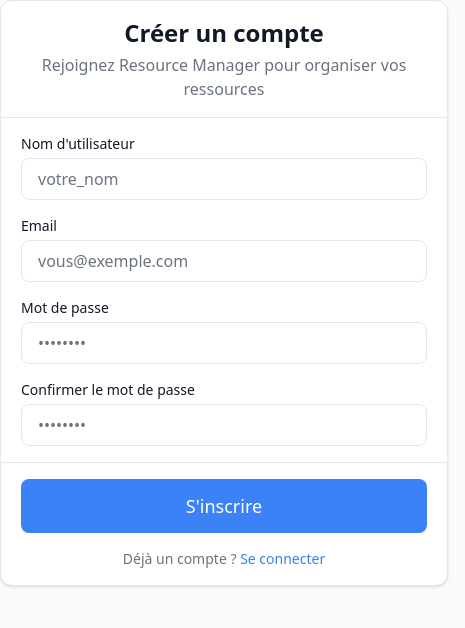
Test: RegisterForm › shows error when email is invalid
In the field labelled "Nom d'utilisateur": (224, 179) [21,158,427,200], type "testuser"
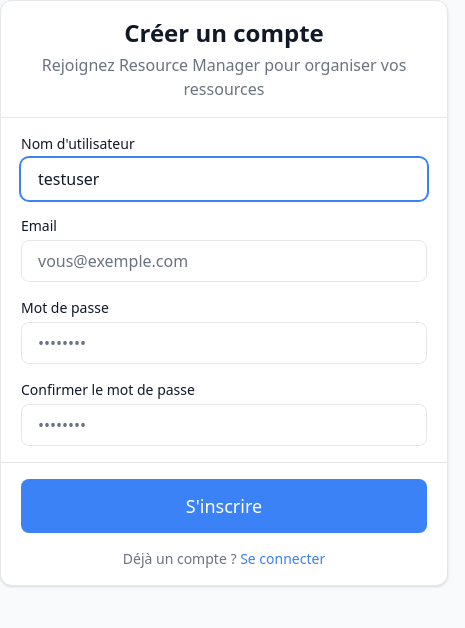
In the field labelled "Email": (224, 261) [21,240,427,282], type "invalid-email"
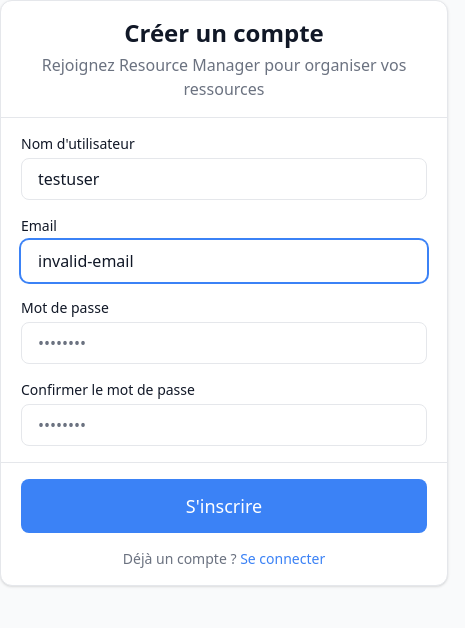
In the password field labelled "Mot de passe": (224, 343) [21,322,427,364], type "password123"
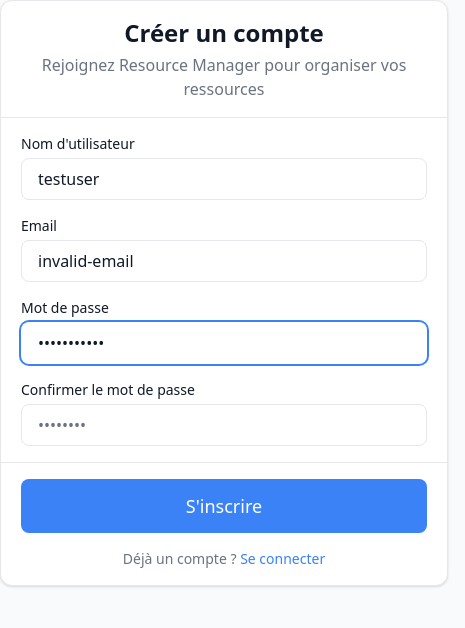
In the password field labelled "Confirmer le mot de passe": (224, 425) [21,404,427,446], type "password123"
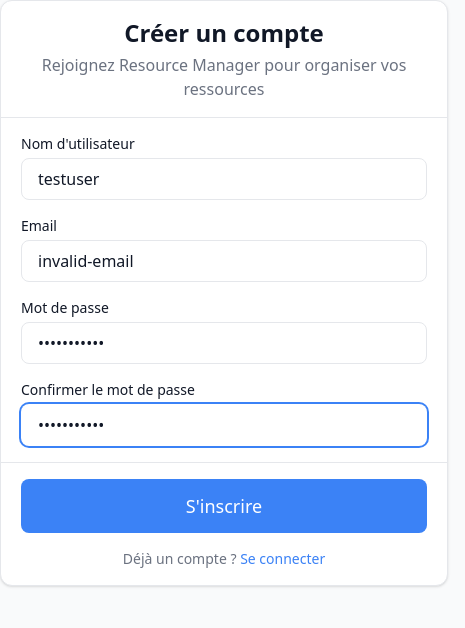
Submit the form "S'inscrire"
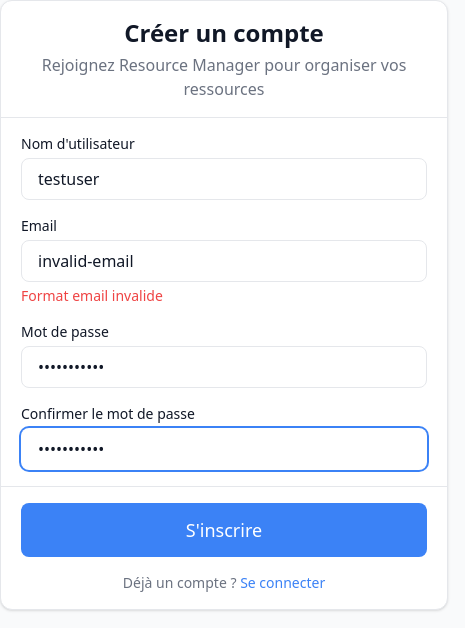
Expected: the text "Format email invalide" is shown, [21,286,163,305]
